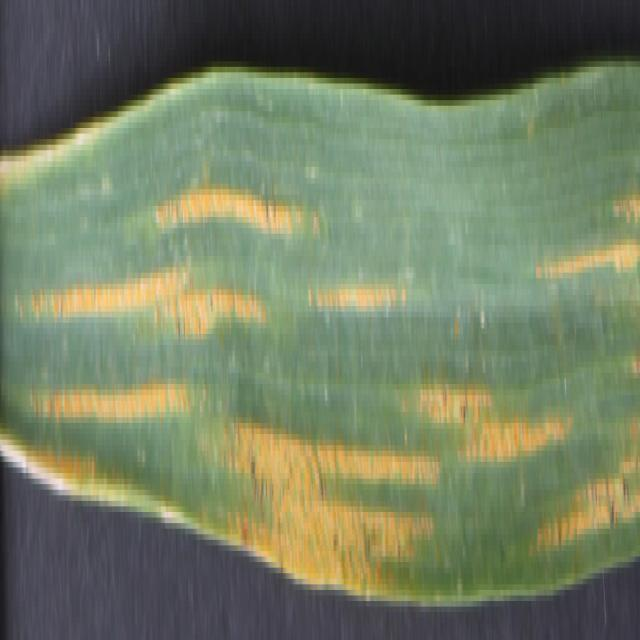leaf rust: (19, 128, 640, 607)
